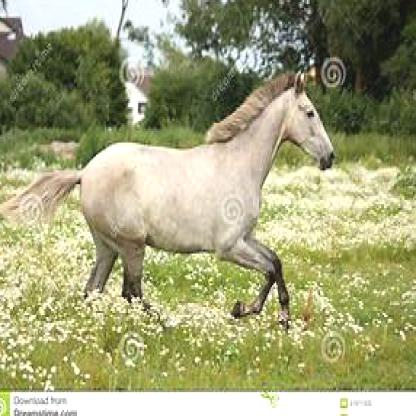horse: (0, 67, 338, 327)
